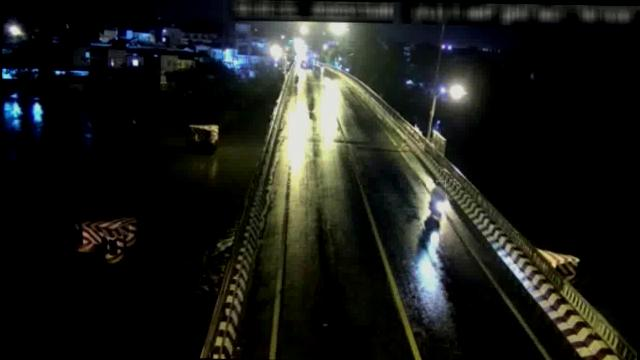Bike: (424, 182, 446, 221)
